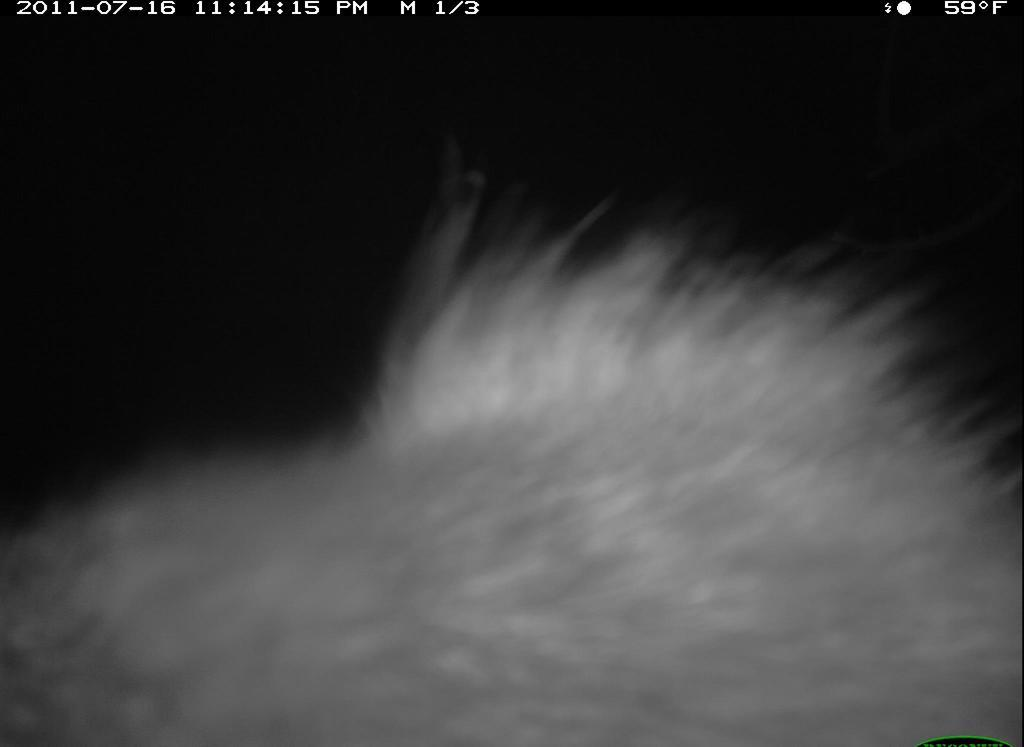raccoon: (2, 181, 1021, 747)
